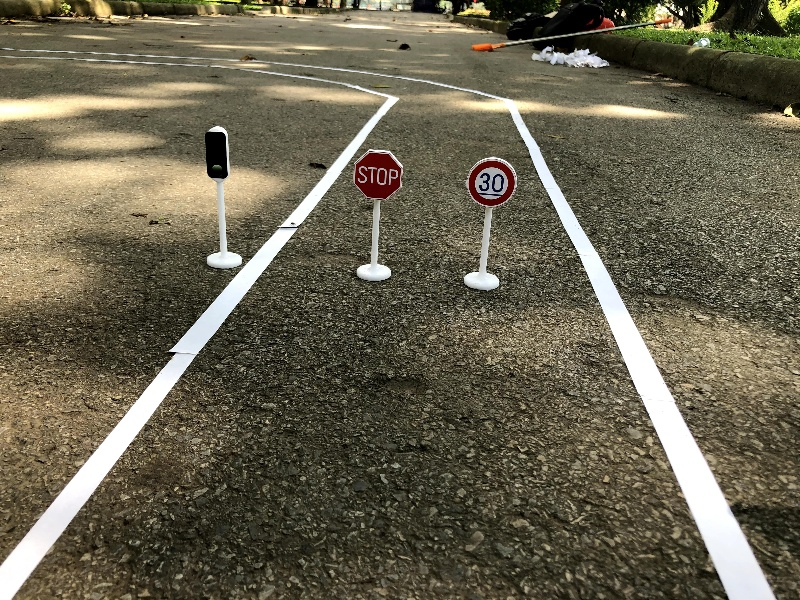Bien_bao_30: (454, 151, 523, 302)
Den_Xanh: (190, 122, 259, 279)
Stop: (345, 146, 412, 293)
